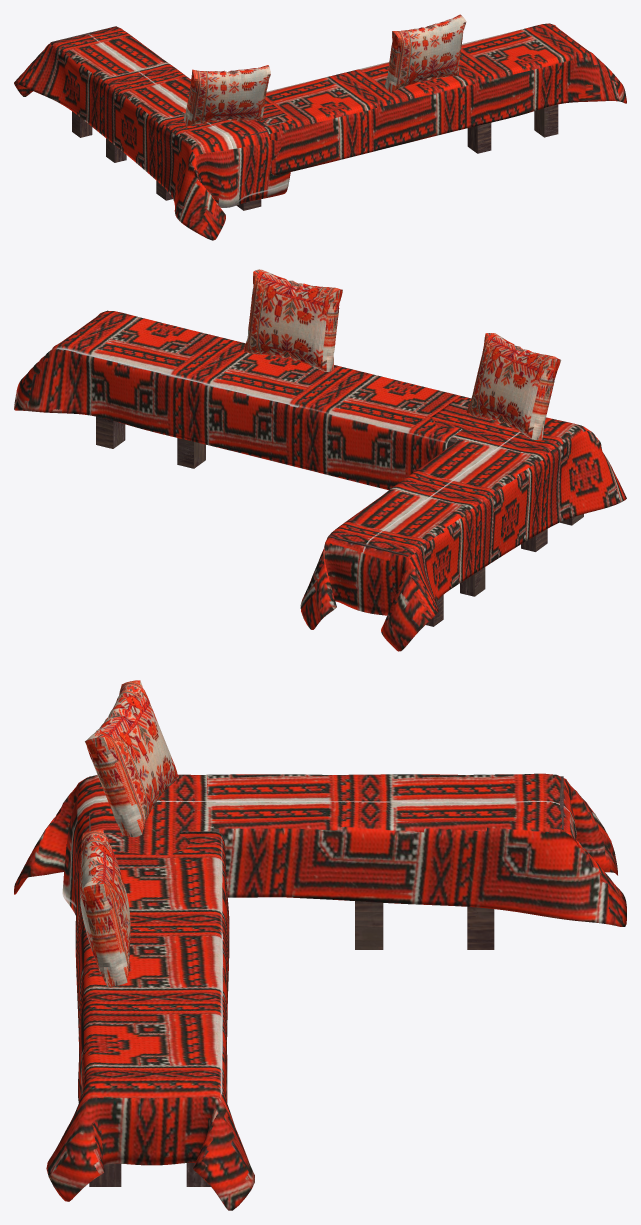
Rendered from divanche_pirinska_done.fbx.
3 views of the same model, one above another, from view 1: azimuth 30°, elevation 25°; view 2: azimuth 150°, elevation 25°; view 3: azimuth 270°, elevation 25° (orthographic). The views are drawn at different scales.
Visible parts, largest first — view 1: Plane.004, Cube.013, Cube.001, Cube.012; view 2: Plane.004, Cube.013, Cube.001, Cube.012; view 3: Plane.004, Cube.001, Cube.013, Cube.012.
Part boxes in pixels (left/top/right/bottom): Plane.004: left=14, top=23, right=626, bottom=240; Cube.013: left=384, top=14, right=466, bottom=92; Cube.001: left=184, top=65, right=270, bottom=126; Cube.012: left=50, top=26, right=558, bottom=210; Plane.004: left=14, top=310, right=626, bottom=651; Cube.013: left=244, top=269, right=342, bottom=371; Cube.001: left=466, top=333, right=561, bottom=439; Cube.012: left=96, top=416, right=583, bottom=626; Plane.004: left=14, top=773, right=626, bottom=1210; Cube.001: left=85, top=680, right=178, bottom=837; Cube.013: left=80, top=829, right=130, bottom=986; Cube.012: left=89, top=776, right=563, bottom=1186.
Bounding box in the file's own units: 349 × 102 × 248.
